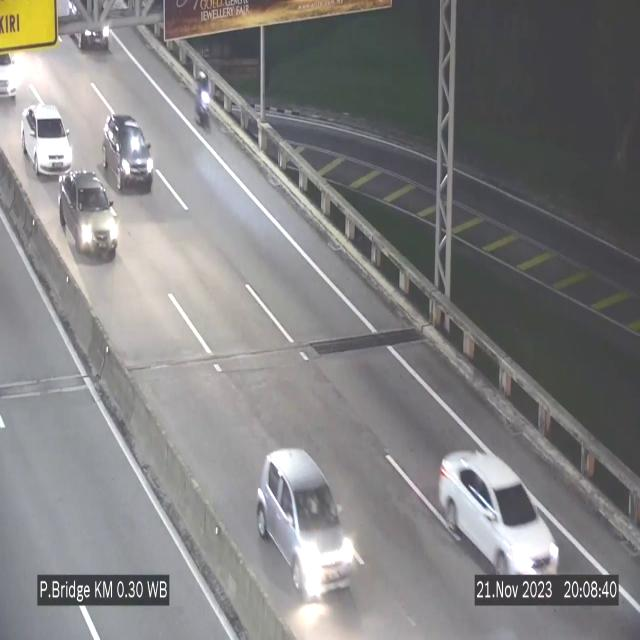Car: (254, 441, 364, 605), (438, 448, 558, 574), (59, 169, 118, 260), (103, 114, 154, 192), (22, 104, 72, 176), (65, 1, 115, 52), (0, 53, 28, 104)
Motorcycle: (192, 64, 216, 136)
